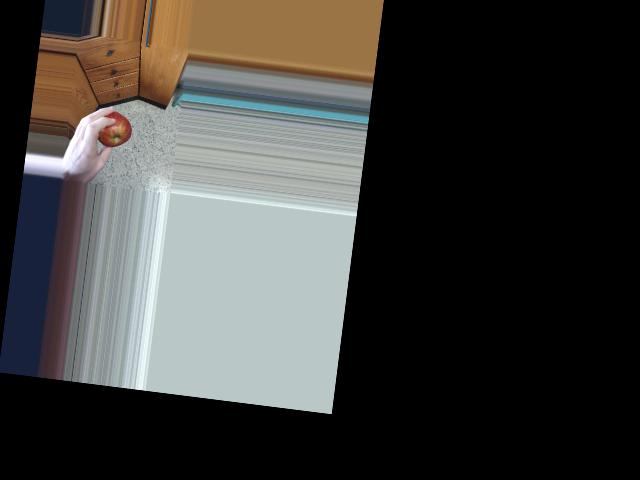apple: (90, 104, 135, 151)
